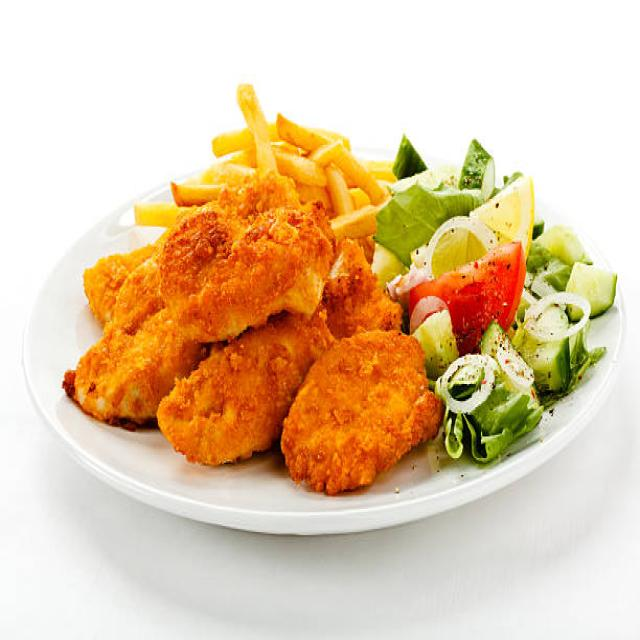Frango: (56, 168, 443, 498)
